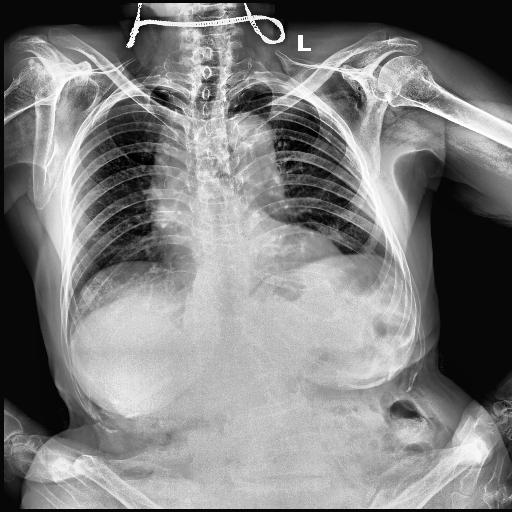0- Aortic enlargement: (210, 112, 277, 180), (221, 109, 274, 177), (219, 110, 275, 172)
11- Pleural thickening: (230, 78, 290, 89), (136, 80, 180, 94)
3- Cardiomegaly: (153, 226, 352, 281), (164, 242, 358, 290), (148, 230, 346, 276)
7- Lung Opacity: (154, 108, 192, 208)
